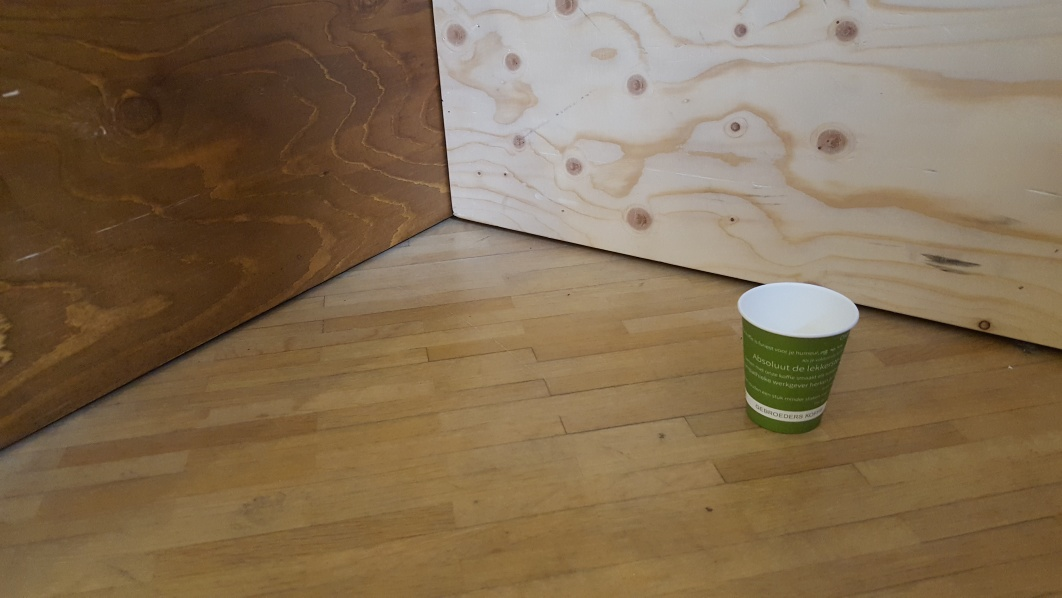cup: (733, 280, 862, 428)
